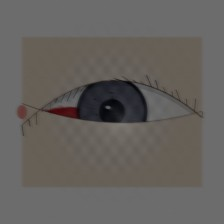hemorrhage_spot: (22, 79, 125, 162)
